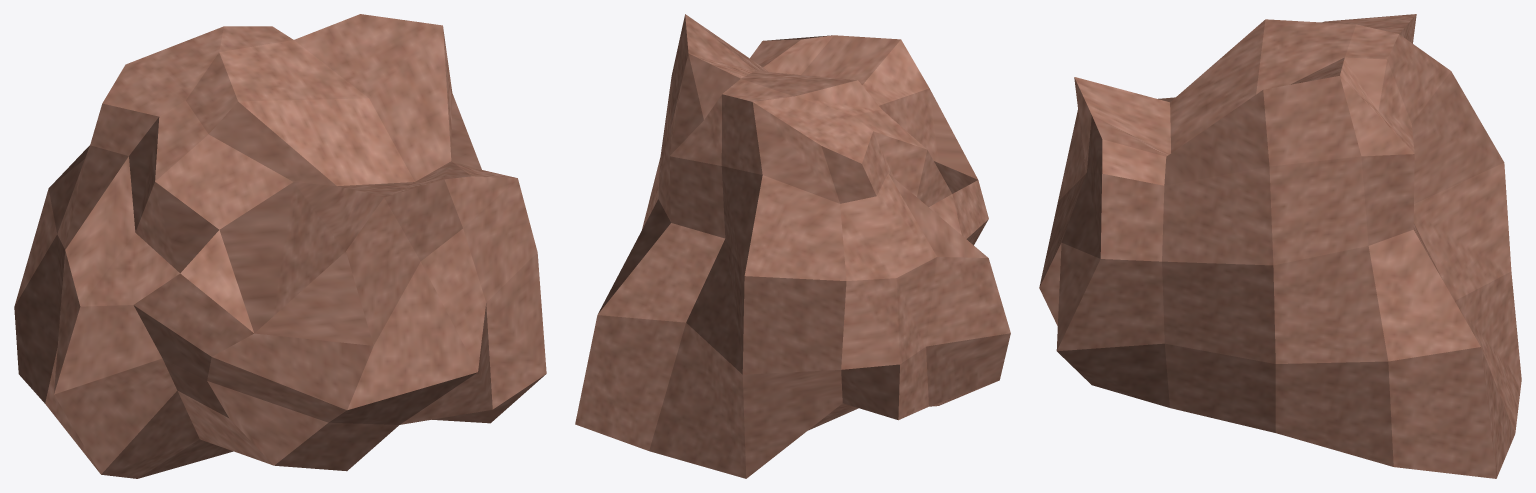
Rendered from Mineral_Bronze.fbx.
3 renders of one model, left to right at view 1: azimuth 30°, elevation 25°; view 2: azimuth 150°, elevation 25°; view 3: azimuth 270°, elevation 25°, orthographic. The views are drawn at different scales.
Parts seen in each view (by area): view 1: Minerais; view 2: Minerais; view 3: Minerais.
Part boxes in pixels (x1,y1,x2,y2): Minerais: [14, 14, 546, 478]; Minerais: [575, 14, 1010, 478]; Minerais: [1039, 14, 1521, 478].
Size of the model in its own units: 20.14 by 18.73 by 21.15.
1 material, 1 textured.
